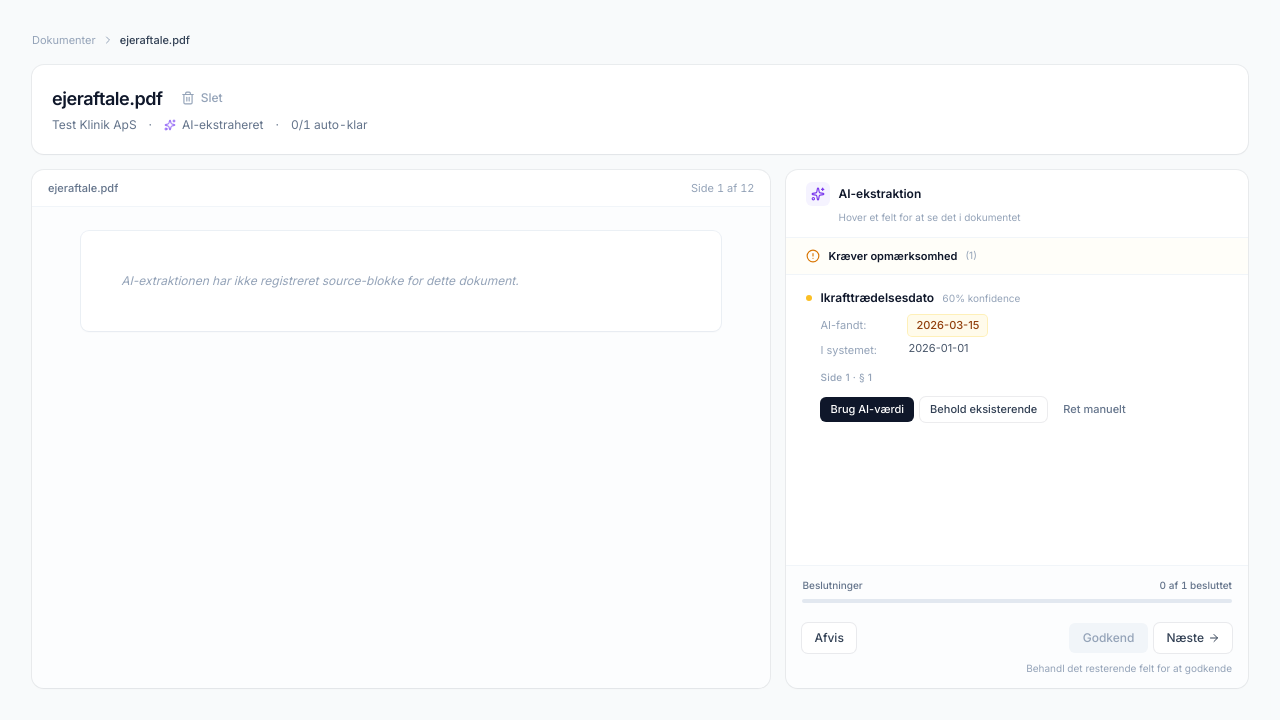
Test: ReviewClient › "Afvis"-knap åbner rejection-dialog
The width and height of the screenshot is (1280, 720).
Click the button "Afvis": (829, 638) [802,623,856,653]
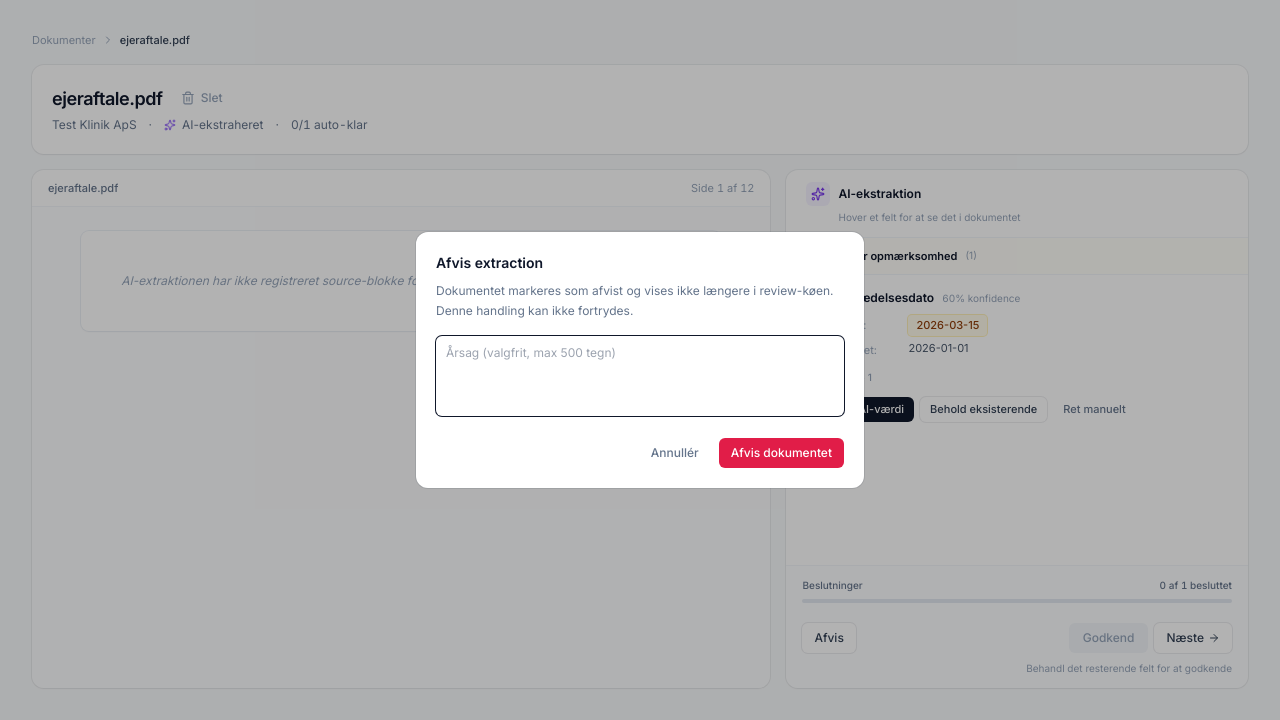
Result: the heading "Afvis extraction" is shown at [436,254,543,271]
Result: the text box with placeholder "Årsag (valgfrit, max 500 tegn)" is shown at [436,336,844,416]
